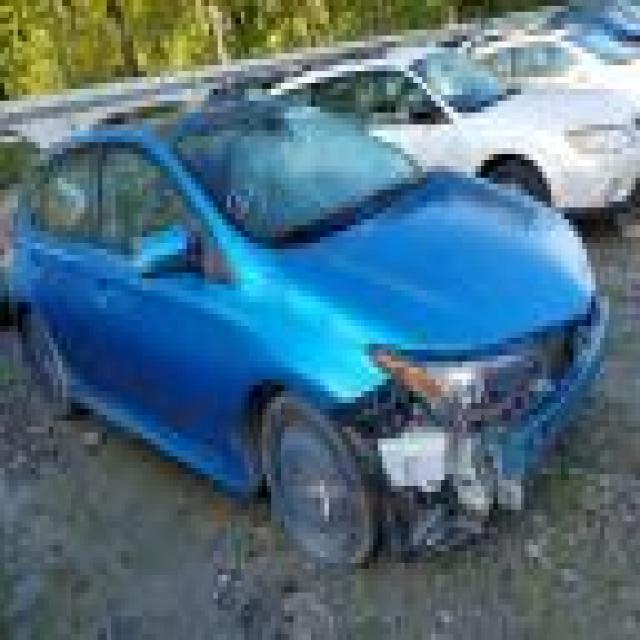moderate: (366, 365, 558, 628)
